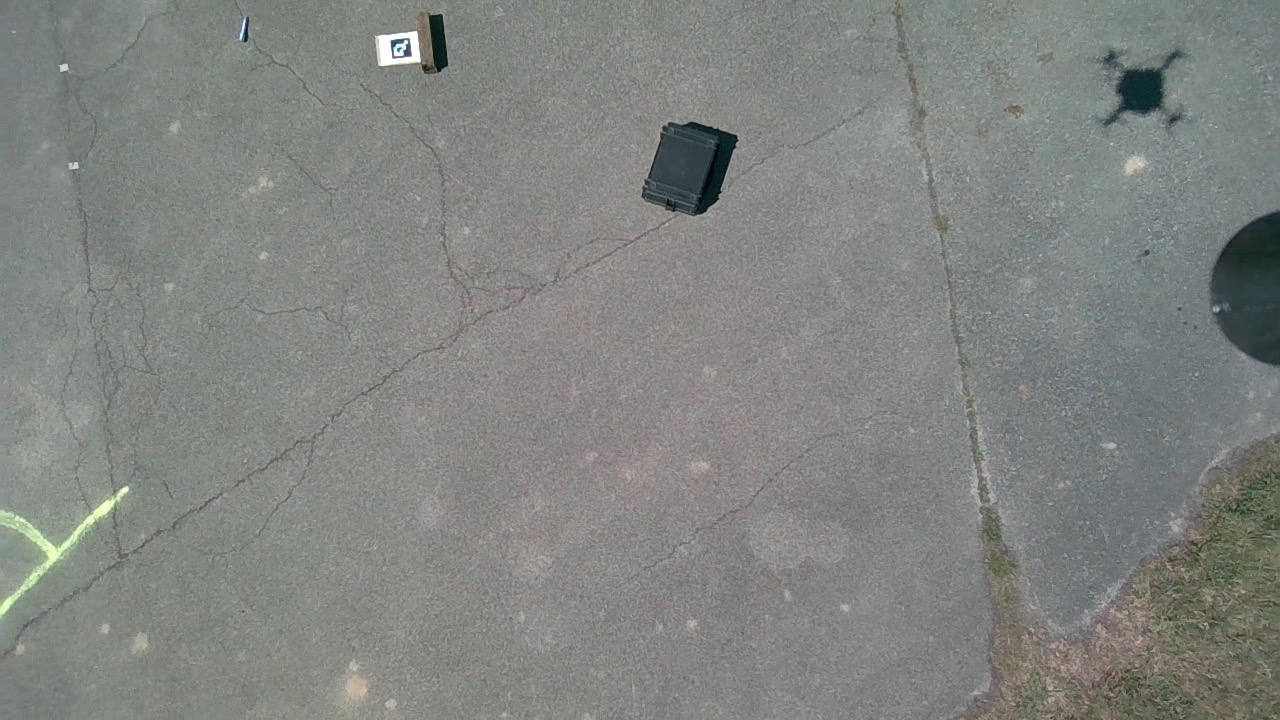probes: (238, 16, 249, 42)
